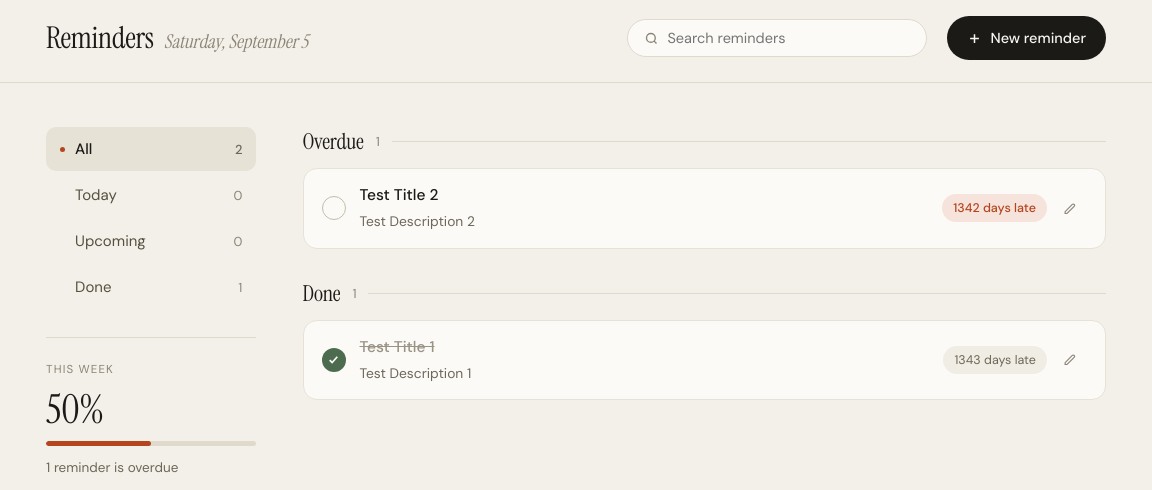
Scenario: RemindersList › filters the list by the selected view
Step 1. Click the button "Done 1" → (151, 287), box [46,265,256,309]
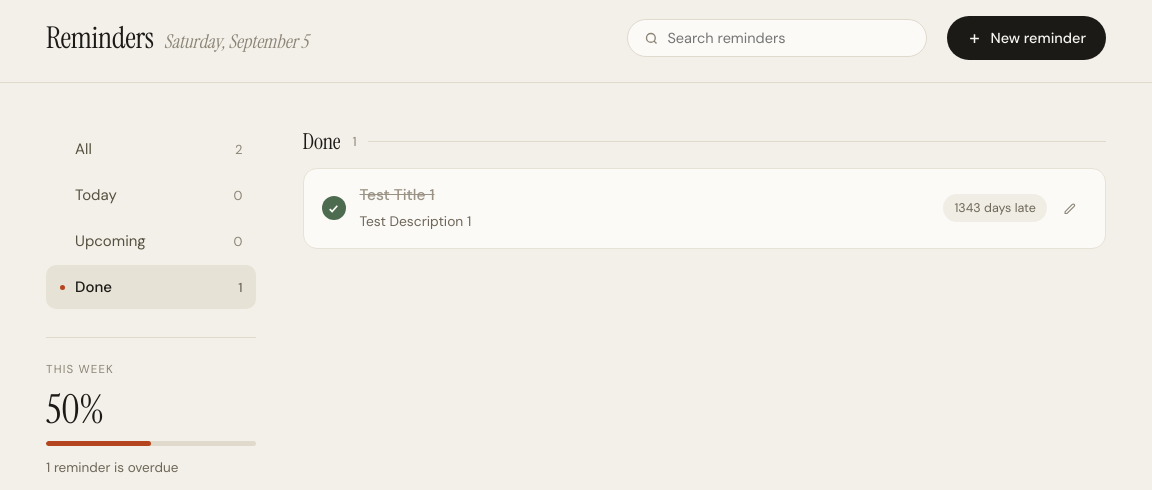
Expected: the text "Test Title 1" is shown, [360,185,434,205]
Expected: the text "Test Title 2" is gone
